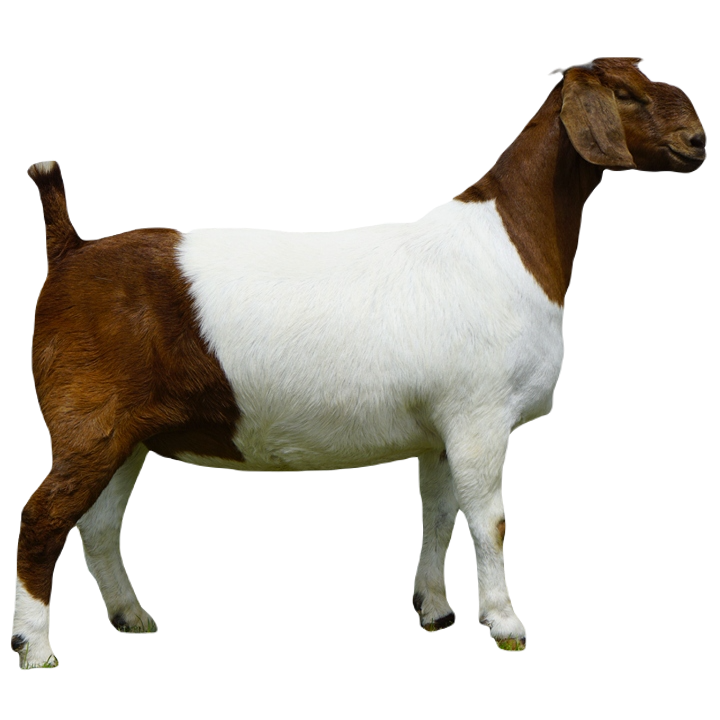Goat: (5, 53, 706, 663)
